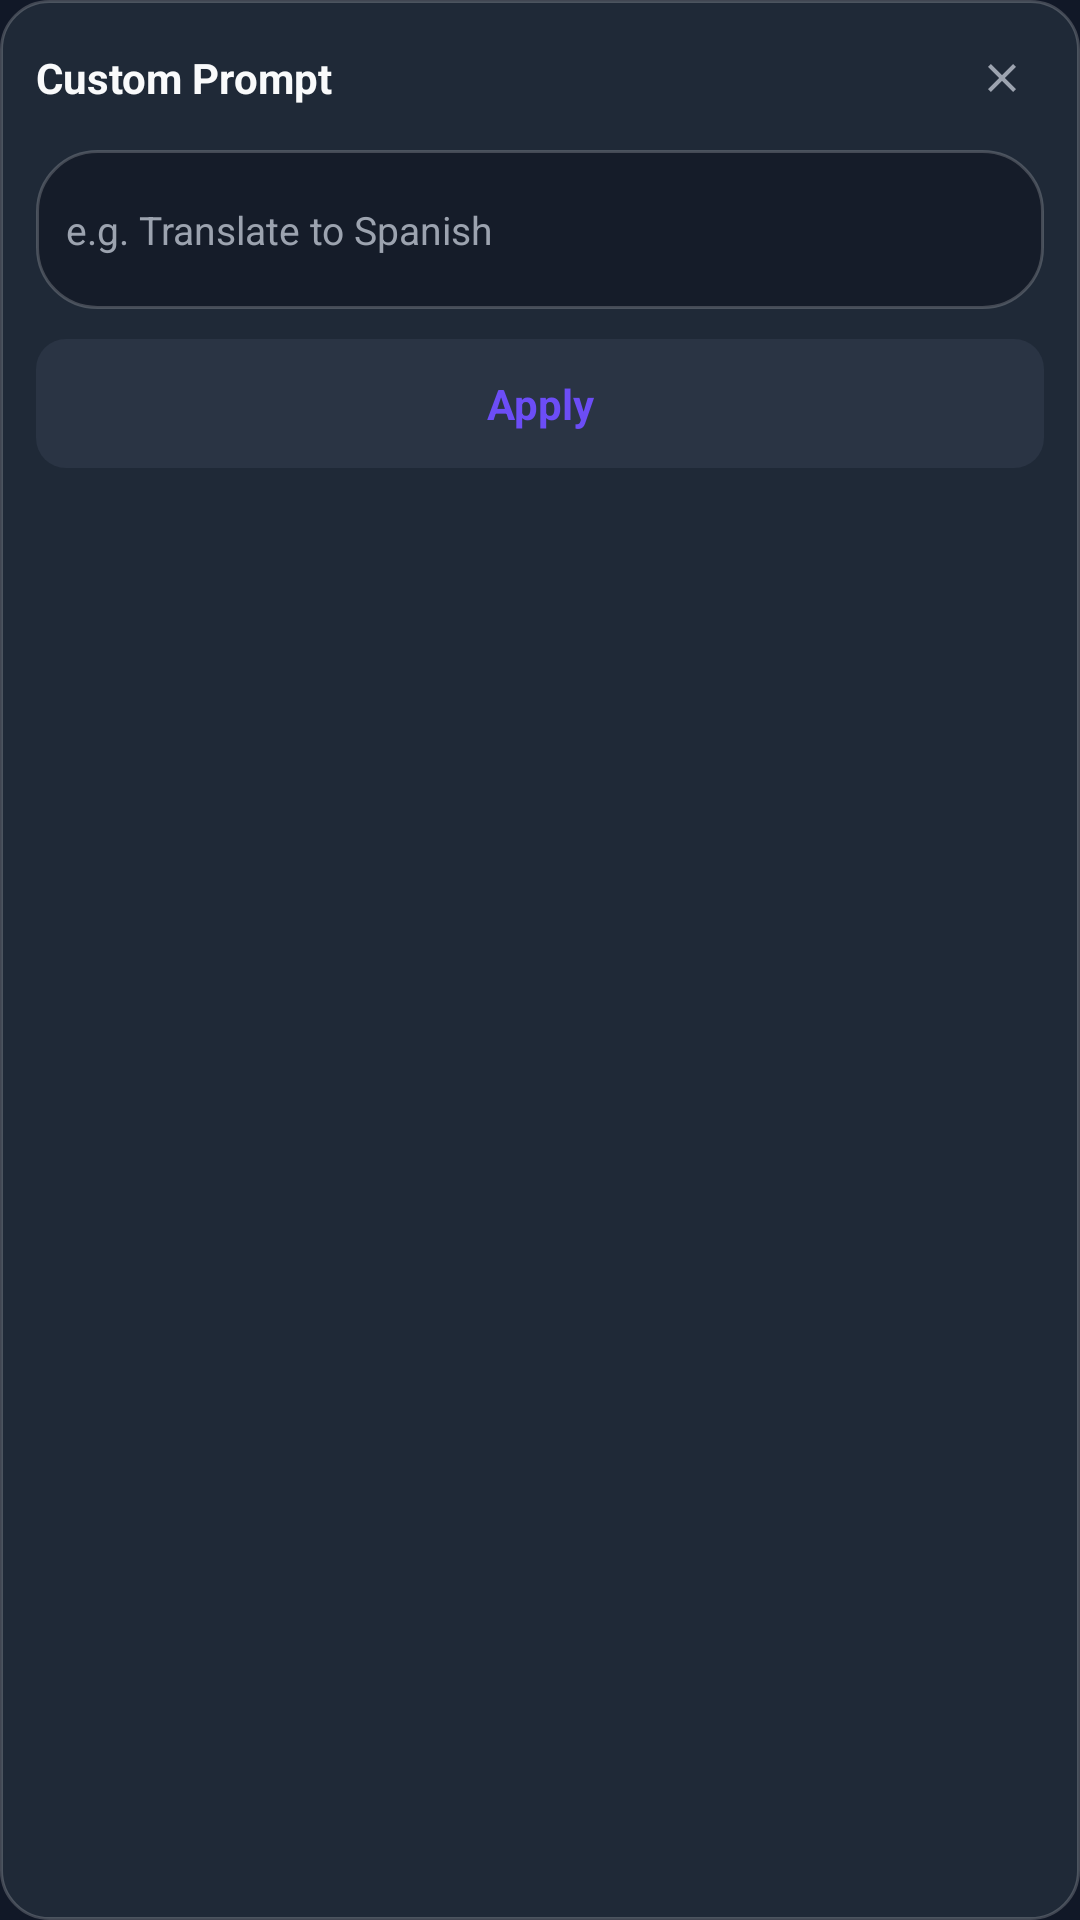

Screen size 1080 × 1920. Icon name, then its center in pixels as point (x, y):
close: point (1002, 78)
